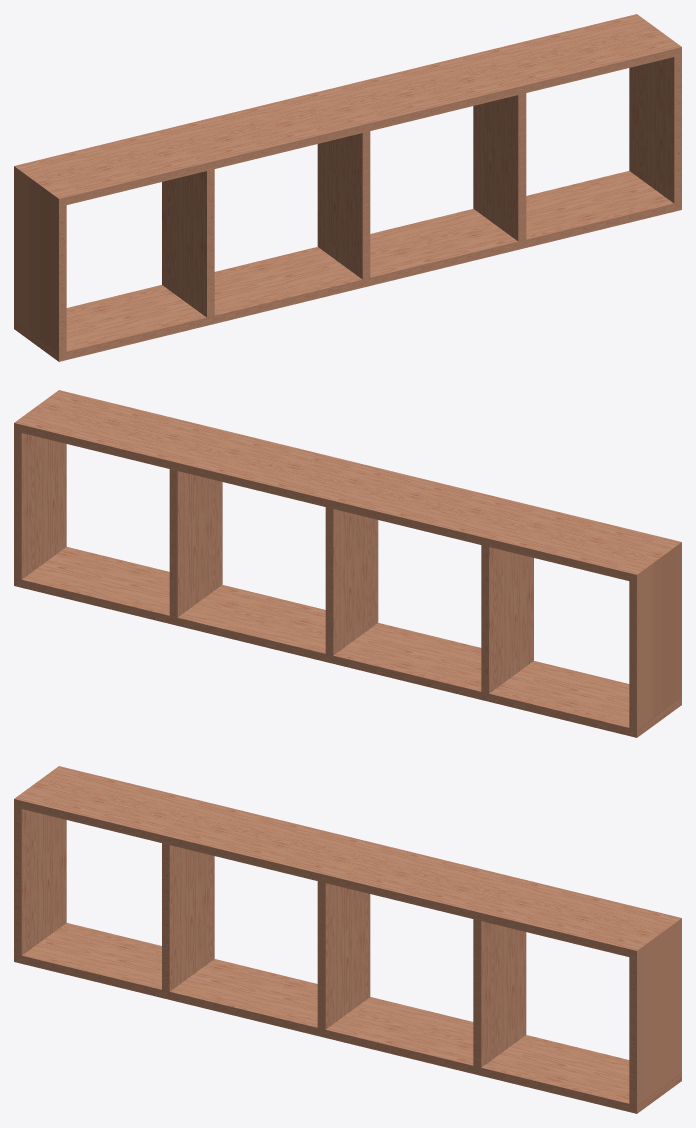
Rendered from Bedroom - shelf(1).fbx.
3 renders of one model, top to bottom at view 1: azimuth 30°, elevation 25°; view 2: azimuth 150°, elevation 25°; view 3: azimuth 330°, elevation 25°, orthographic.
Visible parts, largest first — view 1: Cube.322; view 2: Cube.322; view 3: Cube.322.
Boxes of the visible parts, x1,y1,x2,y2 form: Cube.322: (14,14,681,361); Cube.322: (14,390,681,737); Cube.322: (14,766,681,1113).
Bounding box in the file's own units: 800 × 200 × 100.
